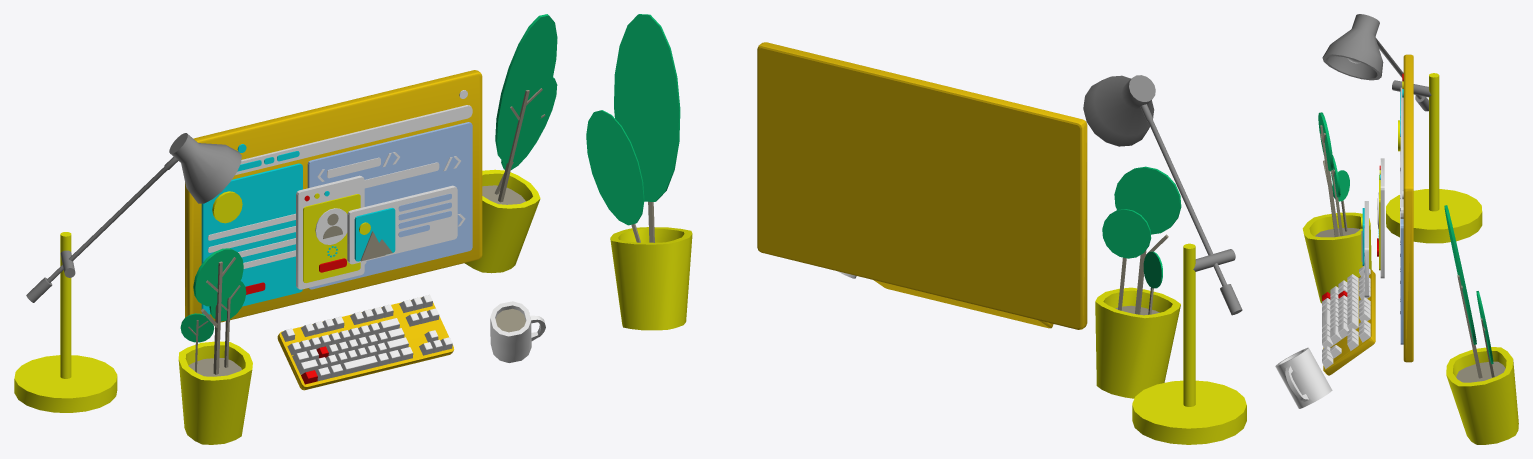
File: mainScene.ce23e2f6.glb
3 views of the same model, side by side, from view 1: azimuth 30°, elevation 25°; view 2: azimuth 150°, elevation 25°; view 3: azimuth 270°, elevation 25° (orthographic). The views are drawn at different scales.
Parts seen in each view (by area): view 1: Cube (×2), Cube.1 (×3), Cylinder.4 (×6), Cube.3, Cube.2 (×3), Cylinder, Cube.7, base, Cylinder.3, Cube.6, Cube.5, mug1 (+7 smaller); view 2: Cube, Cylinder.4 (×4), Cube.1 (×2), Cylinder, Cylinder.3, Cylinder.2, base; view 3: Cube.1 (×3), Cylinder, Cube (×2), Cylinder.3, mug1, Cylinder.4 (×4), base, Cube.2 (×2), fff, Cube.5, Cube.3, Cube.7 (+2 smaller).
Part boxes in pixels (left/top/right/bottom): Cube (×2): left=185, top=70, right=482, bottom=376; Cube.1 (×3): left=178, top=105, right=540, bottom=444; Cylinder.4 (×6): left=180, top=14, right=557, bottom=342; Cube.3: left=307, top=122, right=472, bottom=289; Cube.2 (×3): left=201, top=90, right=529, bottom=374; Cylinder: left=14, top=232, right=117, bottom=412; Cube.7: left=347, top=185, right=457, bottom=264; base: left=277, top=302, right=454, bottom=390; Cylinder.3: left=169, top=133, right=241, bottom=203; Cube.6: left=303, top=194, right=360, bottom=282; Cube.5: left=296, top=175, right=364, bottom=289; mug1: left=490, top=301, right=545, bottom=362; Cube: left=757, top=42, right=1087, bottom=329; Cylinder.4 (×4): left=586, top=14, right=1181, bottom=258; Cube.1 (×2): left=610, top=227, right=1180, bottom=398; Cylinder: left=1132, top=243, right=1246, bottom=444; Cylinder.3: left=1083, top=75, right=1155, bottom=146; Cylinder.2: left=1140, top=104, right=1242, bottom=315; base: left=873, top=280, right=1053, bottom=328; Cube.1 (×3): left=1302, top=87, right=1518, bottom=444; Cylinder: left=1386, top=73, right=1482, bottom=243; Cube (×2): left=1315, top=54, right=1413, bottom=362; Cylinder.3: left=1322, top=14, right=1383, bottom=80; mug1: left=1275, top=347, right=1332, bottom=408; Cylinder.4 (×4): left=1318, top=112, right=1493, bottom=364; base: left=1323, top=269, right=1375, bottom=375; Cube.2 (×2): left=1320, top=125, right=1482, bottom=378; fff: left=1456, top=361, right=1505, bottom=382; Cube.5: left=1380, top=158, right=1384, bottom=278; Cube.3: left=1400, top=219, right=1403, bottom=344; Cube.7: left=1364, top=201, right=1368, bottom=297.
Bounding box in the file's own units: 6.27 × 3.15 × 2.51.
